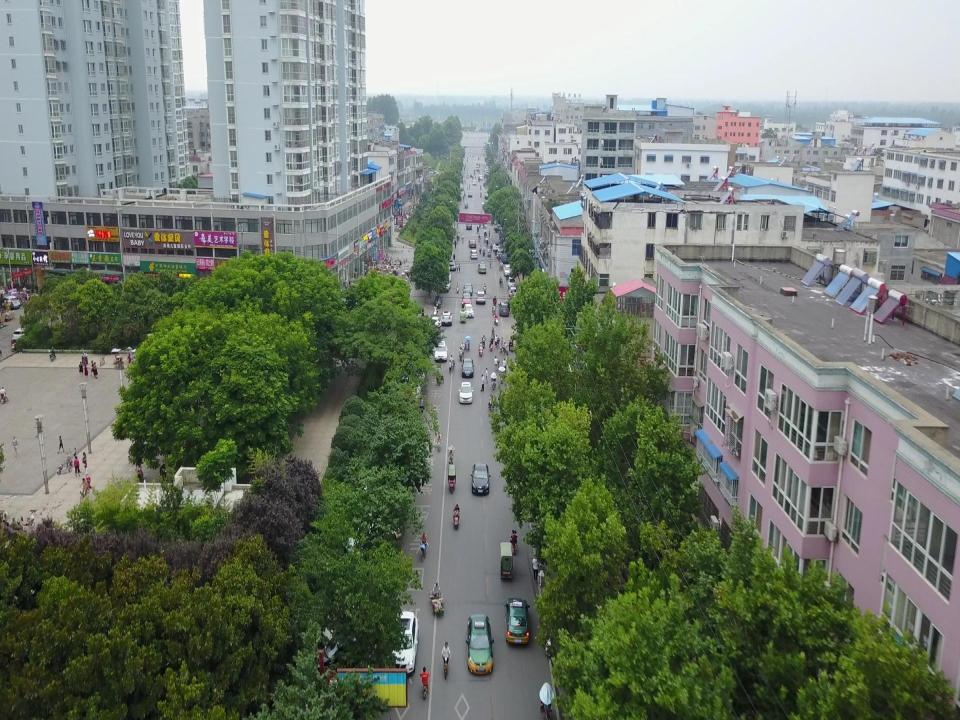car: (343, 519, 403, 553), (318, 624, 362, 668), (465, 615, 495, 675), (390, 611, 418, 675), (504, 597, 532, 644), (471, 461, 492, 496), (458, 382, 474, 403), (434, 340, 448, 362), (11, 325, 31, 339), (1, 294, 21, 308), (424, 316, 442, 330), (462, 358, 474, 376), (499, 301, 511, 317), (442, 310, 454, 324), (463, 303, 473, 317), (475, 291, 485, 304), (477, 262, 487, 274), (442, 270, 452, 282), (463, 284, 473, 296), (507, 275, 516, 288), (462, 293, 471, 306), (504, 265, 514, 276), (440, 281, 450, 292), (447, 261, 456, 270), (470, 249, 478, 258), (502, 254, 509, 264), (468, 239, 476, 247), (493, 241, 500, 250), (497, 247, 503, 257), (466, 221, 472, 230), (484, 192, 490, 199), (471, 179, 477, 185), (468, 191, 472, 196), (459, 184, 462, 189)
van: (509, 287, 517, 297)
